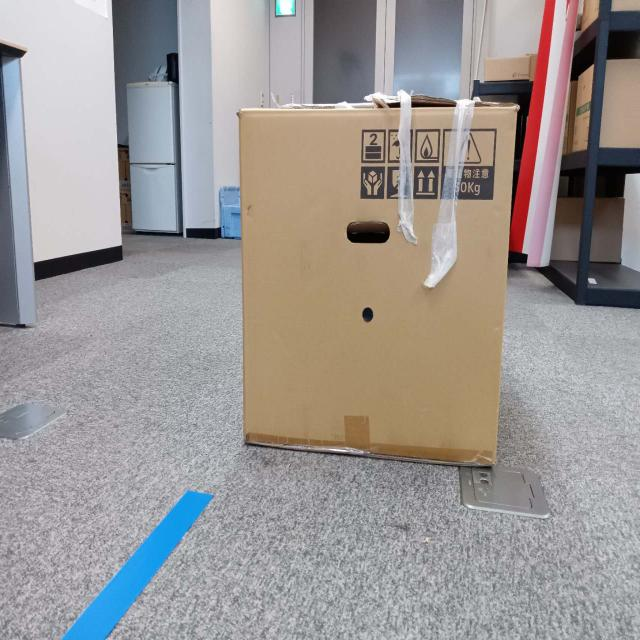box: (242, 96, 500, 468)
